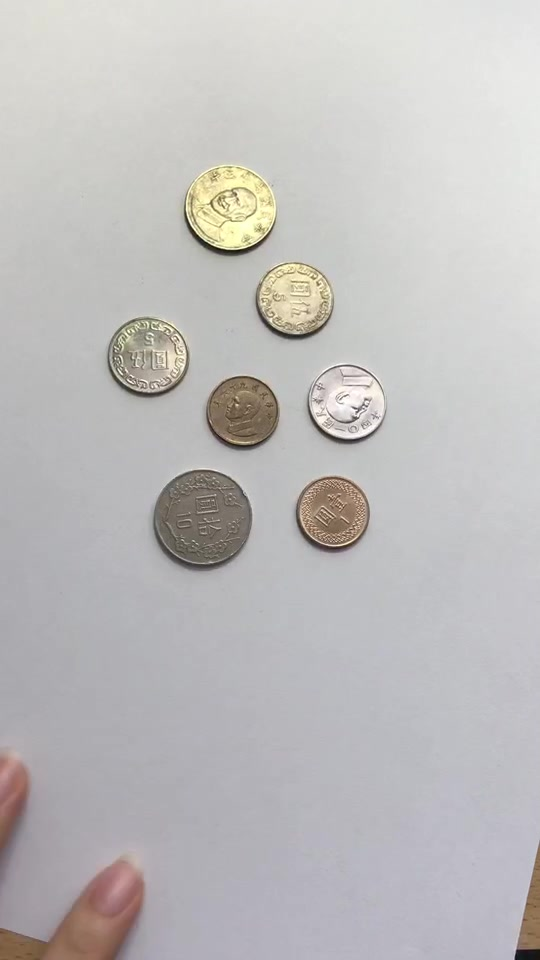1 dallar: (203, 371, 285, 452), (293, 472, 375, 553)
10 dallar: (137, 460, 272, 578), (161, 142, 296, 260)
5 dallar: (97, 310, 199, 399), (241, 253, 343, 342), (301, 355, 403, 444)
